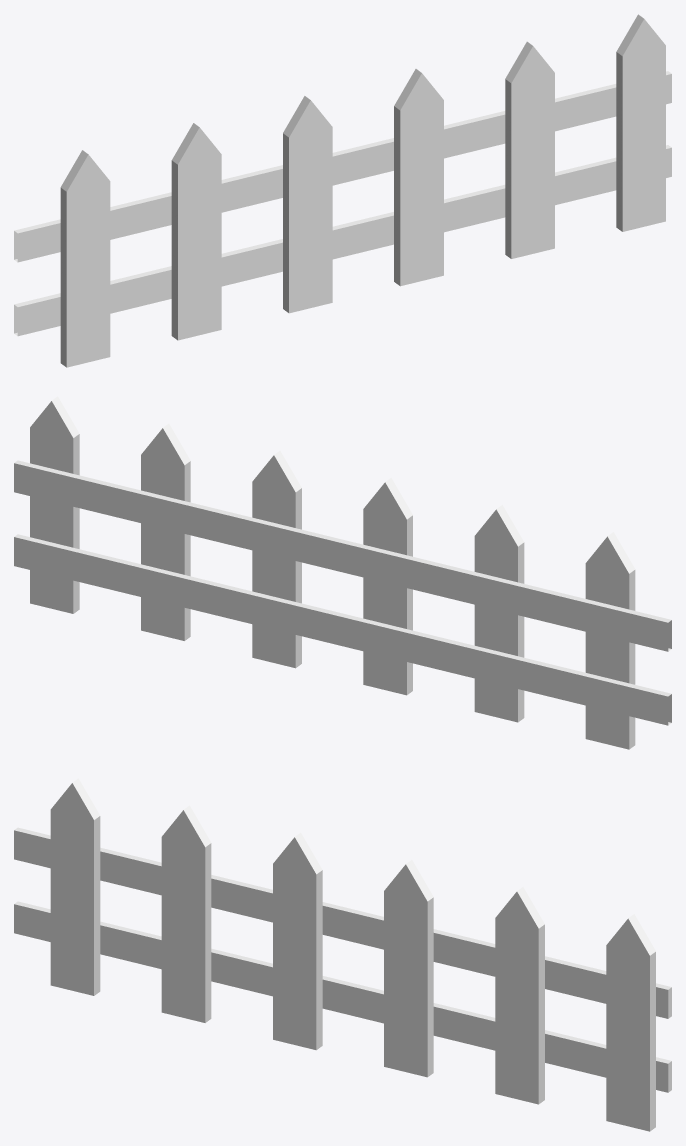
Rendered from FenceTile_2.fbx.
3 views of the same model, one above another, from view 1: azimuth 30°, elevation 25°; view 2: azimuth 150°, elevation 25°; view 3: azimuth 330°, elevation 25° (orthographic).
Parts seen in each view (by area): view 1: FenceTile_2; view 2: FenceTile_2; view 3: FenceTile_2.
Part boxes in pixels (left/top/right/bottom): FenceTile_2: left=14, top=14, right=671, bottom=367; FenceTile_2: left=14, top=396, right=671, bottom=749; FenceTile_2: left=14, top=778, right=671, bottom=1131.
Size of the model in its own units: 403 by 122 by 10.68.
